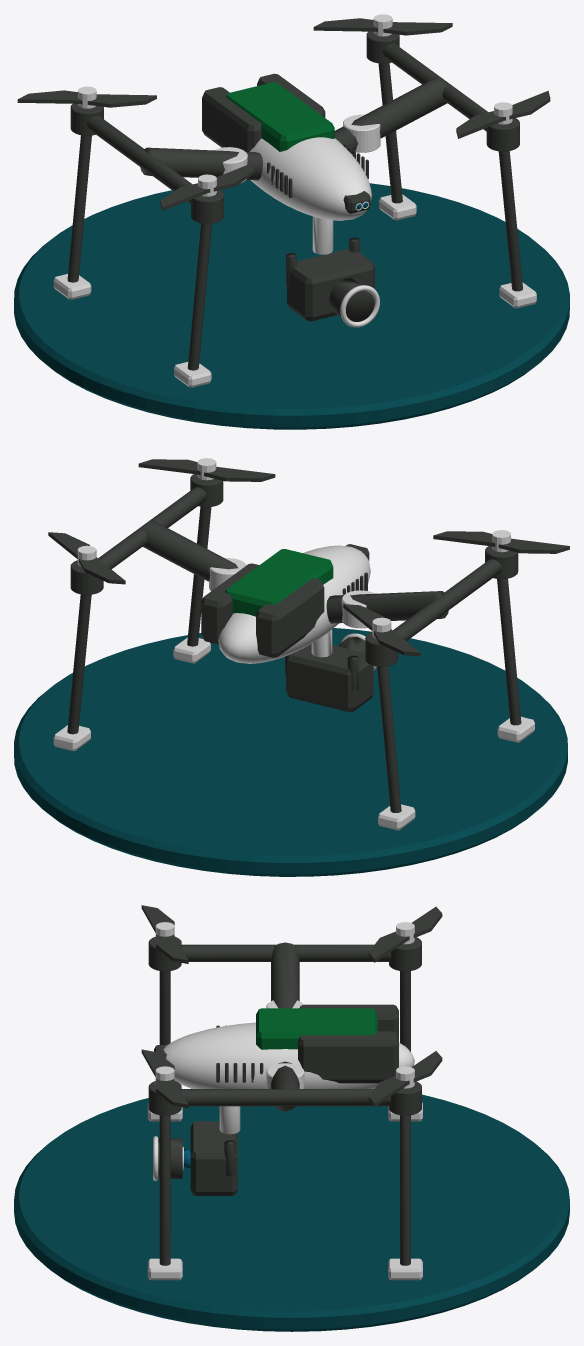
File: dji-inspire-3.glb
The picture shows the model from 3 angles, top to bottom: view 1: azimuth 30°, elevation 25°; view 2: azimuth 150°, elevation 25°; view 3: azimuth 270°, elevation 25°; orthographic projection.
Visible parts, largest first — view 1: pedestal, body; view 2: pedestal, body; view 3: pedestal, body.
Boxes of the visible parts, <box> form: pedestal: <box>14,180,569,429</box>; body: <box>17,14,550,387</box>; pedestal: <box>14,628,567,876</box>; body: <box>48,458,569,830</box>; pedestal: <box>14,1088,569,1331</box>; body: <box>141,905,442,1280</box>.
Size of the model in its own units: 4.4 by 1.91 by 4.4.
